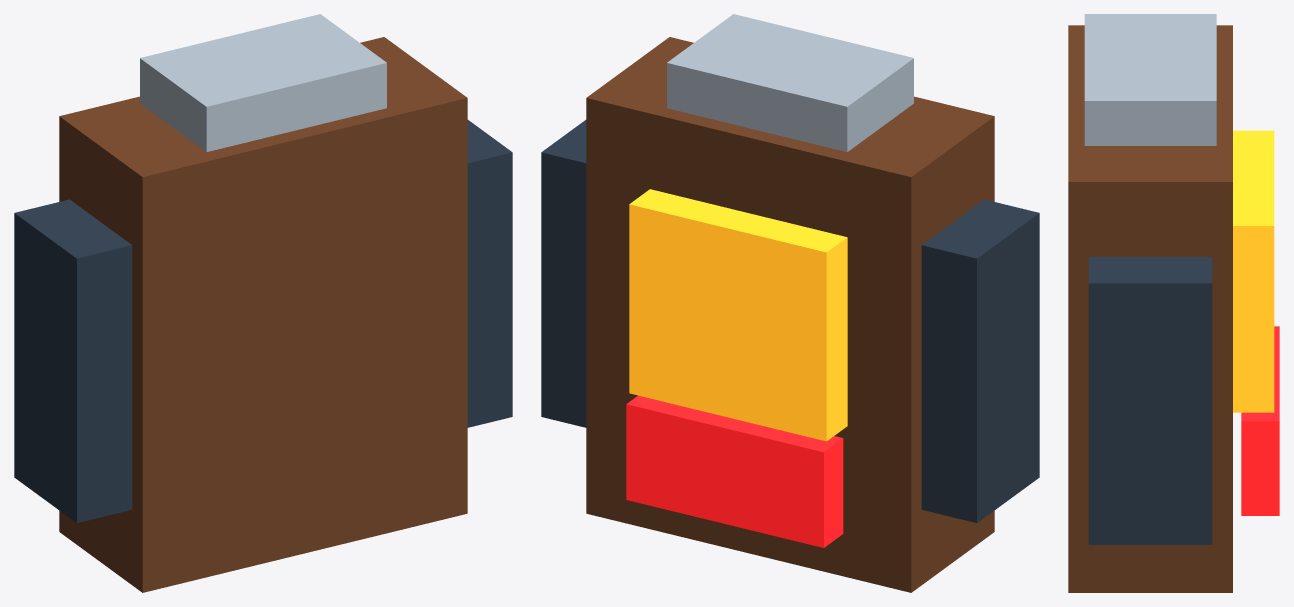
File: backpack-scholar.glb
3 renders of one model, left to right at view 1: azimuth 30°, elevation 25°; view 2: azimuth 150°, elevation 25°; view 3: azimuth 270°, elevation 25°, orthographic.
Visible parts, largest first — view 1: Pack, SideL, Top, SideR; view 2: Pack, Panel, SideL, BookPocket, Top, SideR; view 3: Pack, SideR, Top, Panel, BookPocket.
Part boxes in pixels (bbox=[...]): Pack: bbox=[59, 37, 467, 592]; SideL: bbox=[14, 199, 132, 522]; Top: bbox=[140, 14, 386, 152]; SideR: bbox=[467, 120, 512, 427]; Pack: bbox=[586, 37, 994, 592]; Panel: bbox=[629, 189, 847, 441]; SideL: bbox=[921, 199, 1039, 522]; BookPocket: bbox=[626, 395, 843, 547]; Top: bbox=[667, 14, 913, 152]; SideR: bbox=[541, 120, 586, 427]; Pack: bbox=[1068, 25, 1232, 592]; SideR: bbox=[1088, 256, 1212, 544]; Top: bbox=[1084, 14, 1216, 145]; Panel: bbox=[1233, 130, 1274, 412]; BookPocket: bbox=[1241, 326, 1279, 515].
Bounding box in the file's own units: 1.81 × 1.83 × 0.77.
